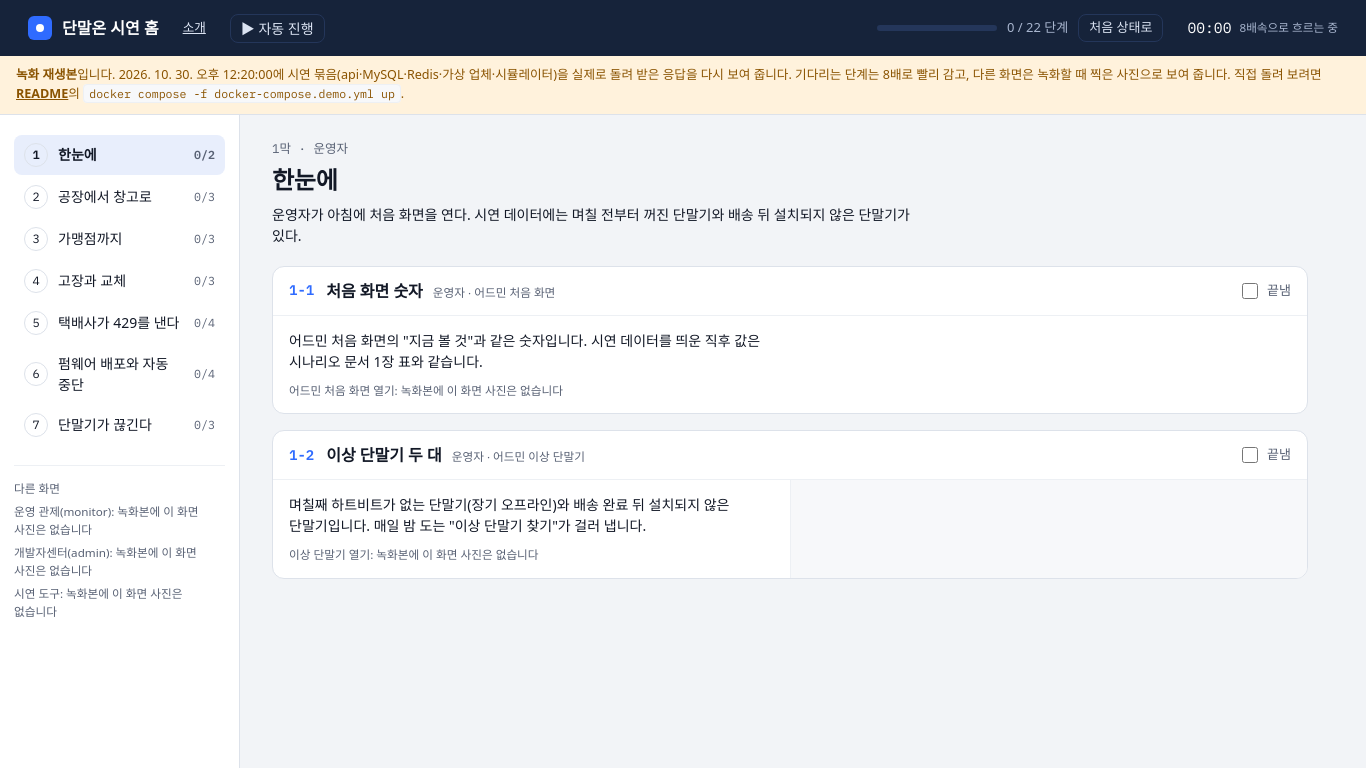
녹화 재생본 화면(보강 11) › 첫 화면은 바로 1막(소개는 소개 페이지가 맡는다), #/tour는 자동 진행 막대와 1막 첫 자막으로 시작한다
Expected: the heading "한눈에" is shown, x1=272 y1=162 x2=338 y2=196
Click the button "▶ 자동 진행".
click(277, 28)  # box x1=230 y1=14 x2=325 y2=42
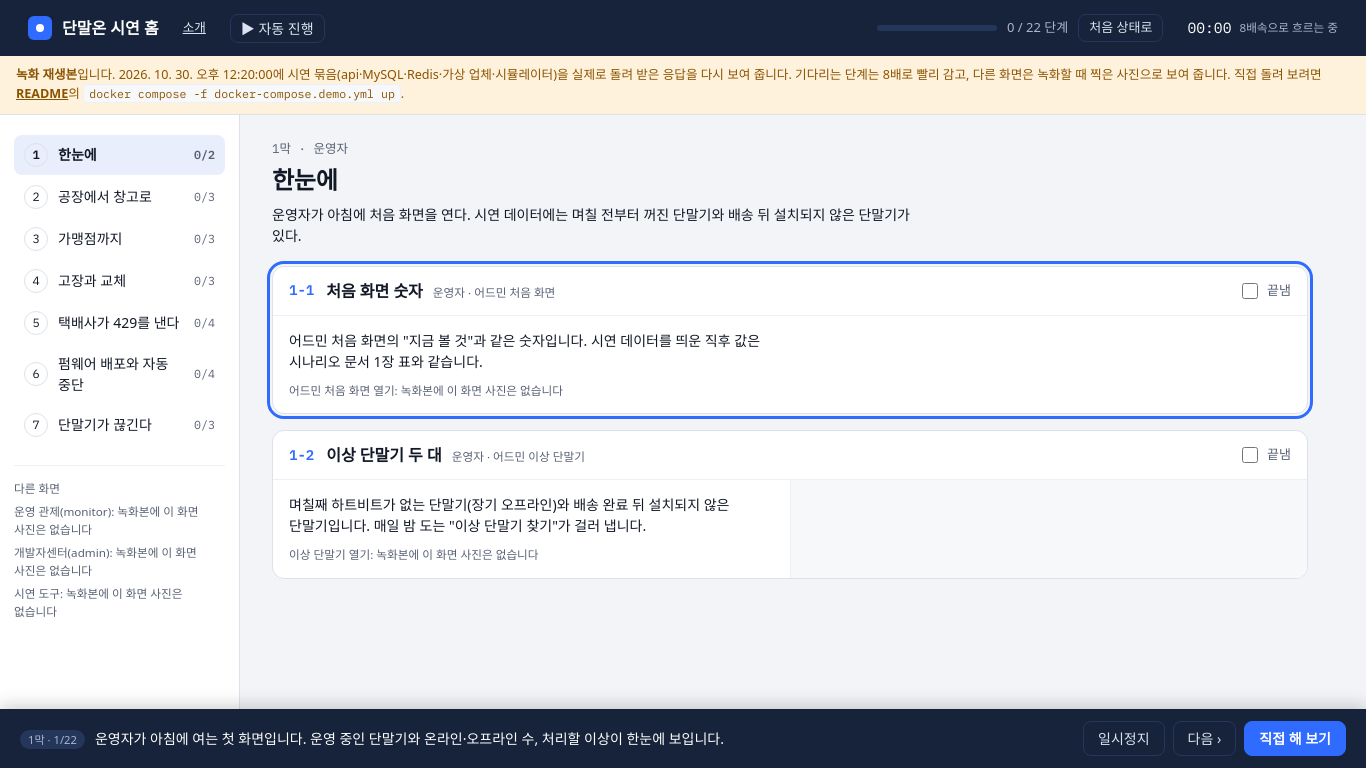
Click the button "일시정지".
click(1124, 738)  # box x1=1083 y1=721 x2=1164 y2=756
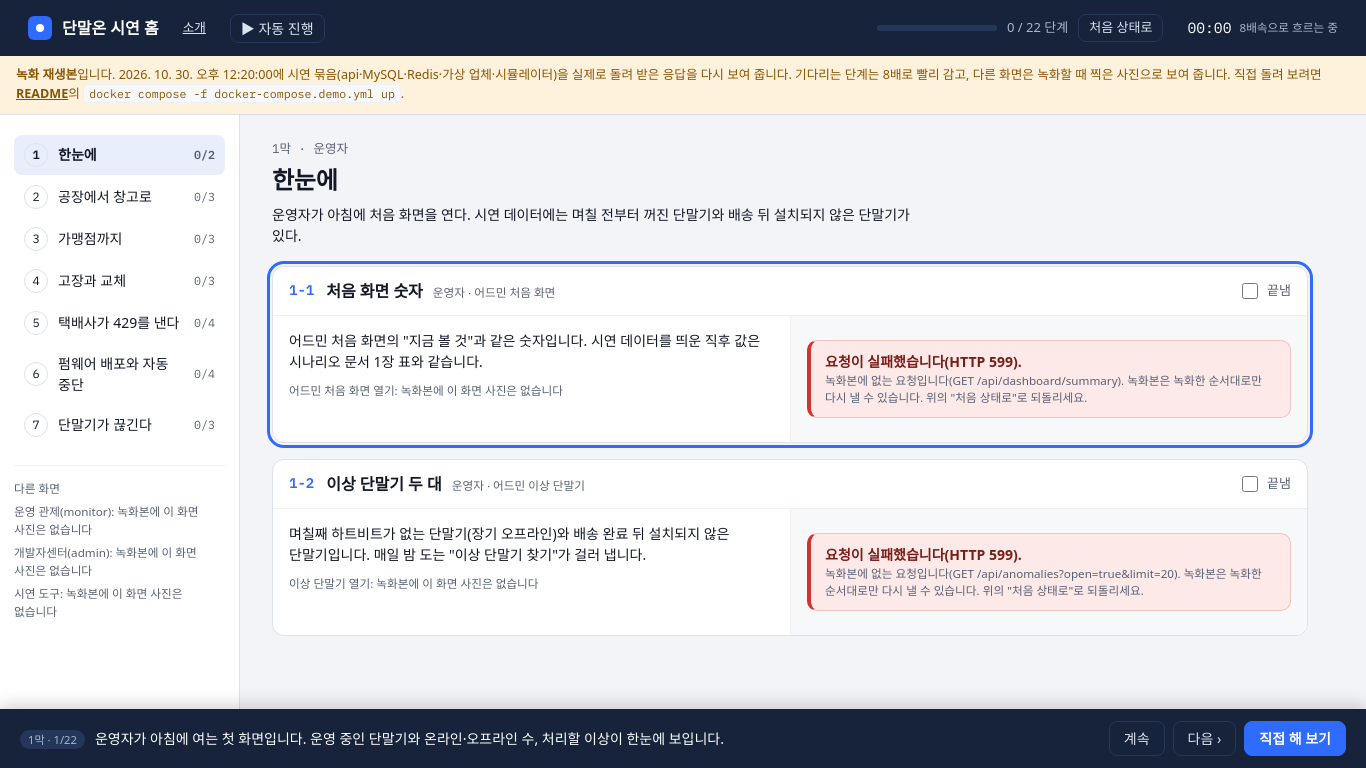
Expected: the button "계속" is shown, x1=1109 y1=721 x2=1165 y2=756
